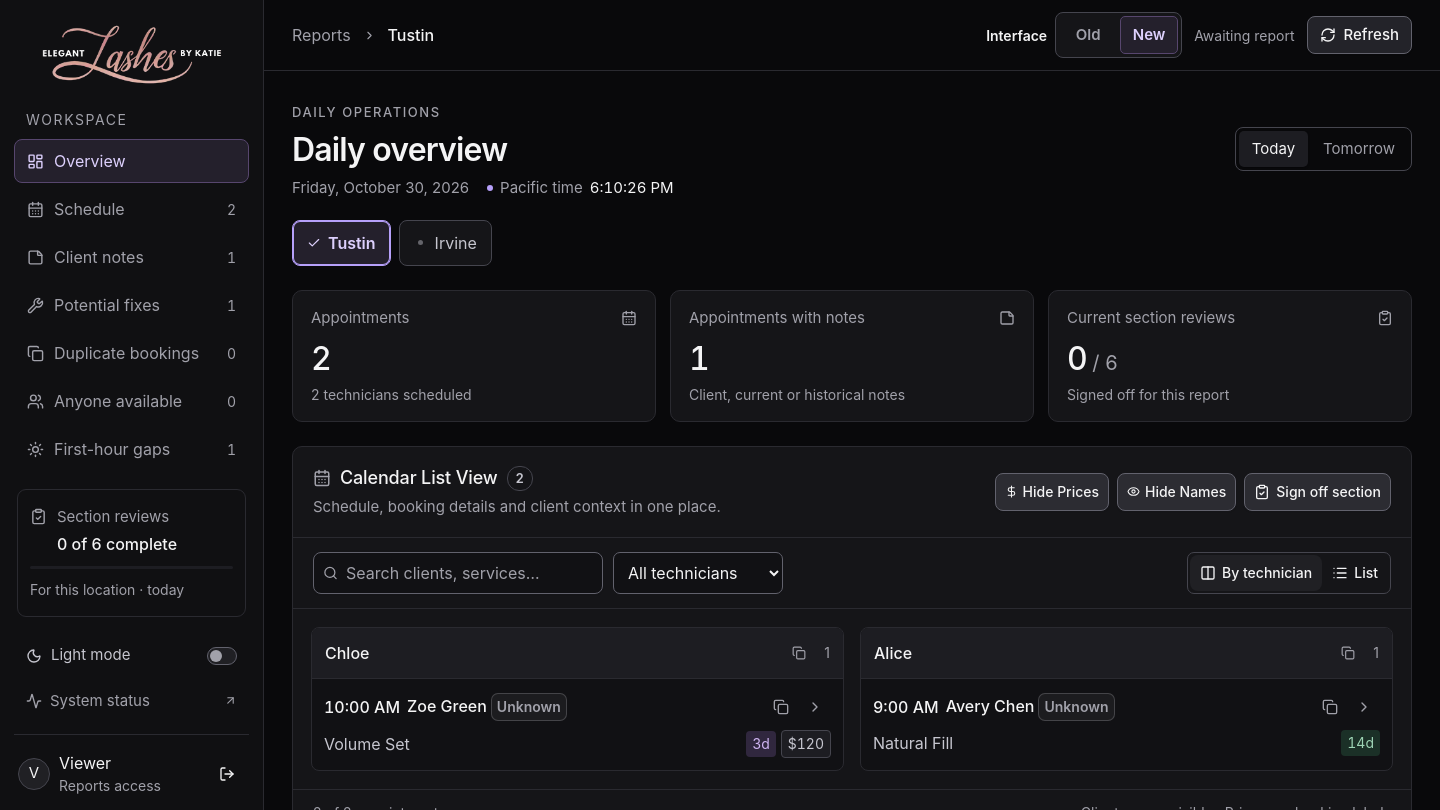
Scenario: keeps current notes and focus behavior in new details, with history only in New
expect the button with aria-label "Sign off Calendar List View" is shown: met, box [1244, 473, 1391, 511]
Click the button named "View 9:00 AM appointment details".
click(1364, 707)  # box [1348, 691, 1380, 723]
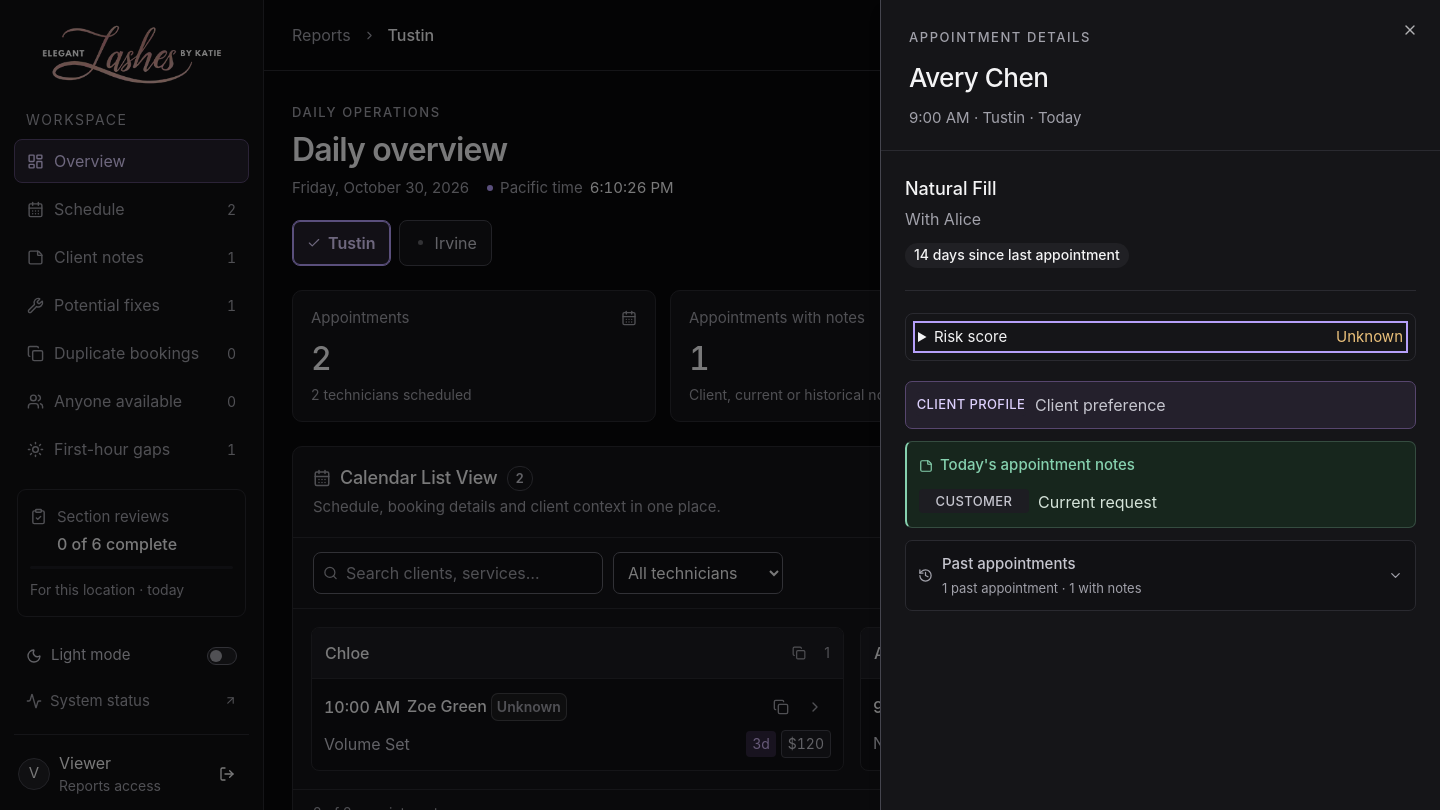
expect the text "Past request" is not shown: met
expect the text "Current request" is shown: met, box [1038, 492, 1157, 512]
expect the text "Client preference" is shown: met, box [1035, 395, 1166, 415]
Click the button "Past appointments 1 past appointment · 1 with notes".
click(1009, 564)  # box [906, 541, 1415, 610]
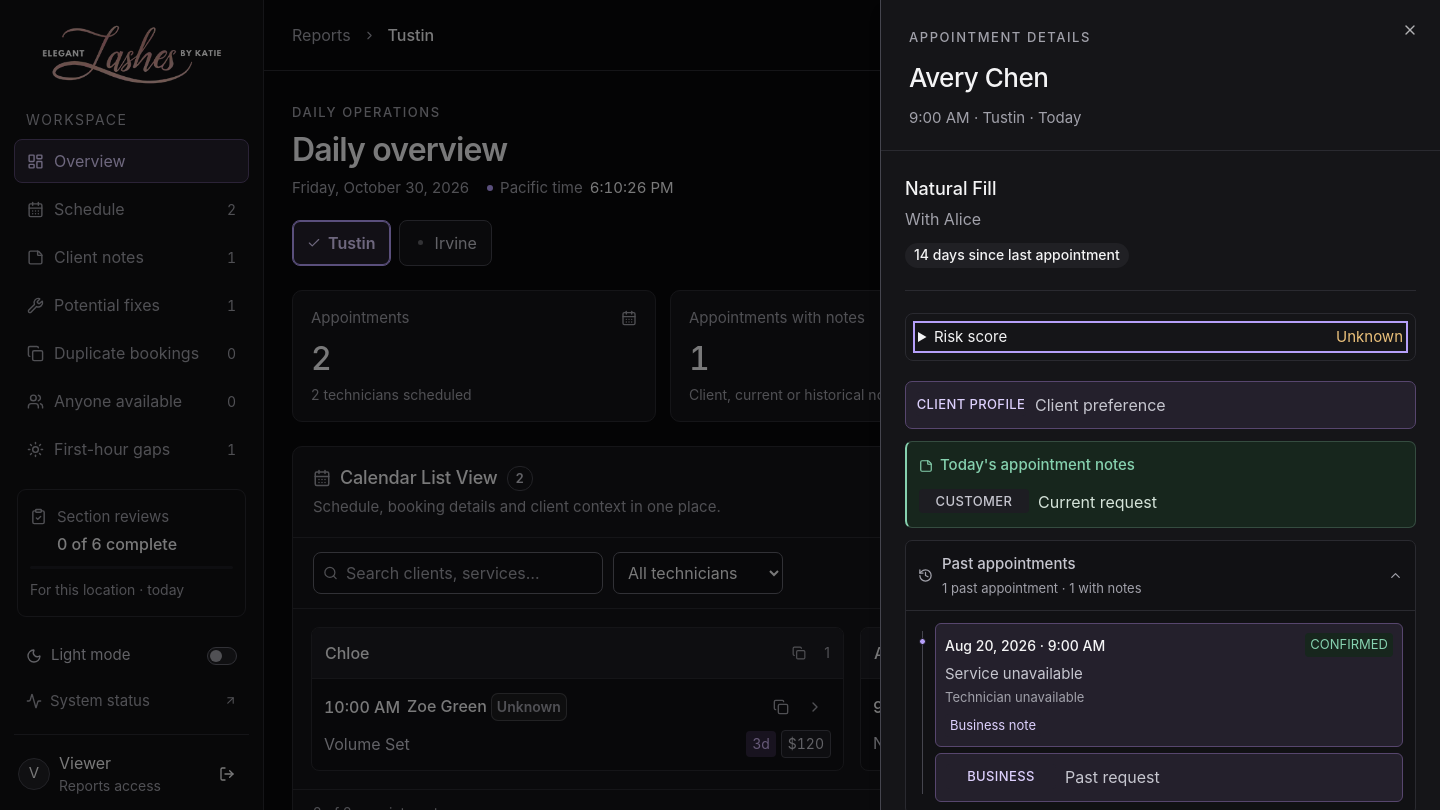
expect the text "Past request" is shown: met, box [1065, 767, 1160, 787]
Press Escape in the dialog "Avery Chen", box [880, 0, 1439, 809]
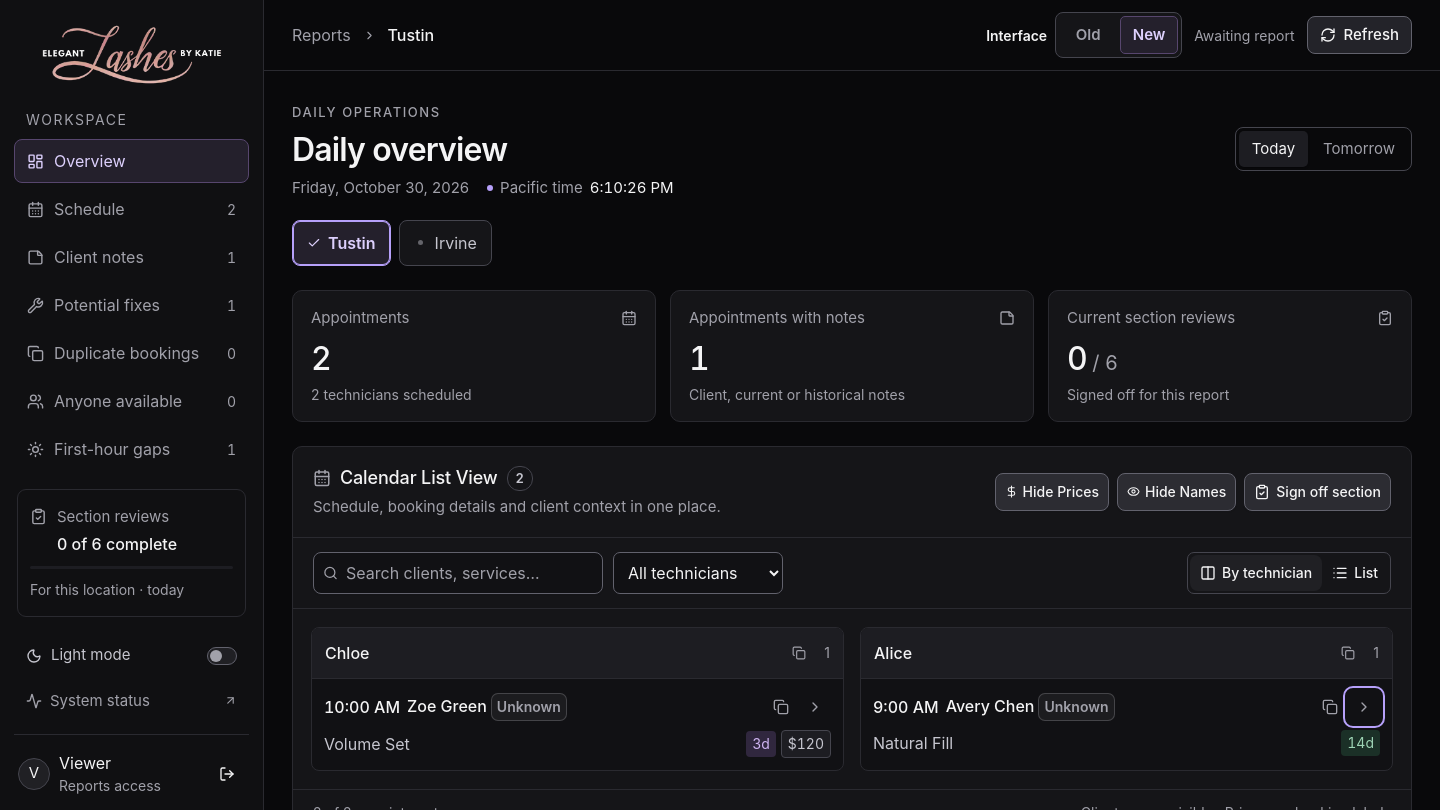
expect the dialog is gone: met
